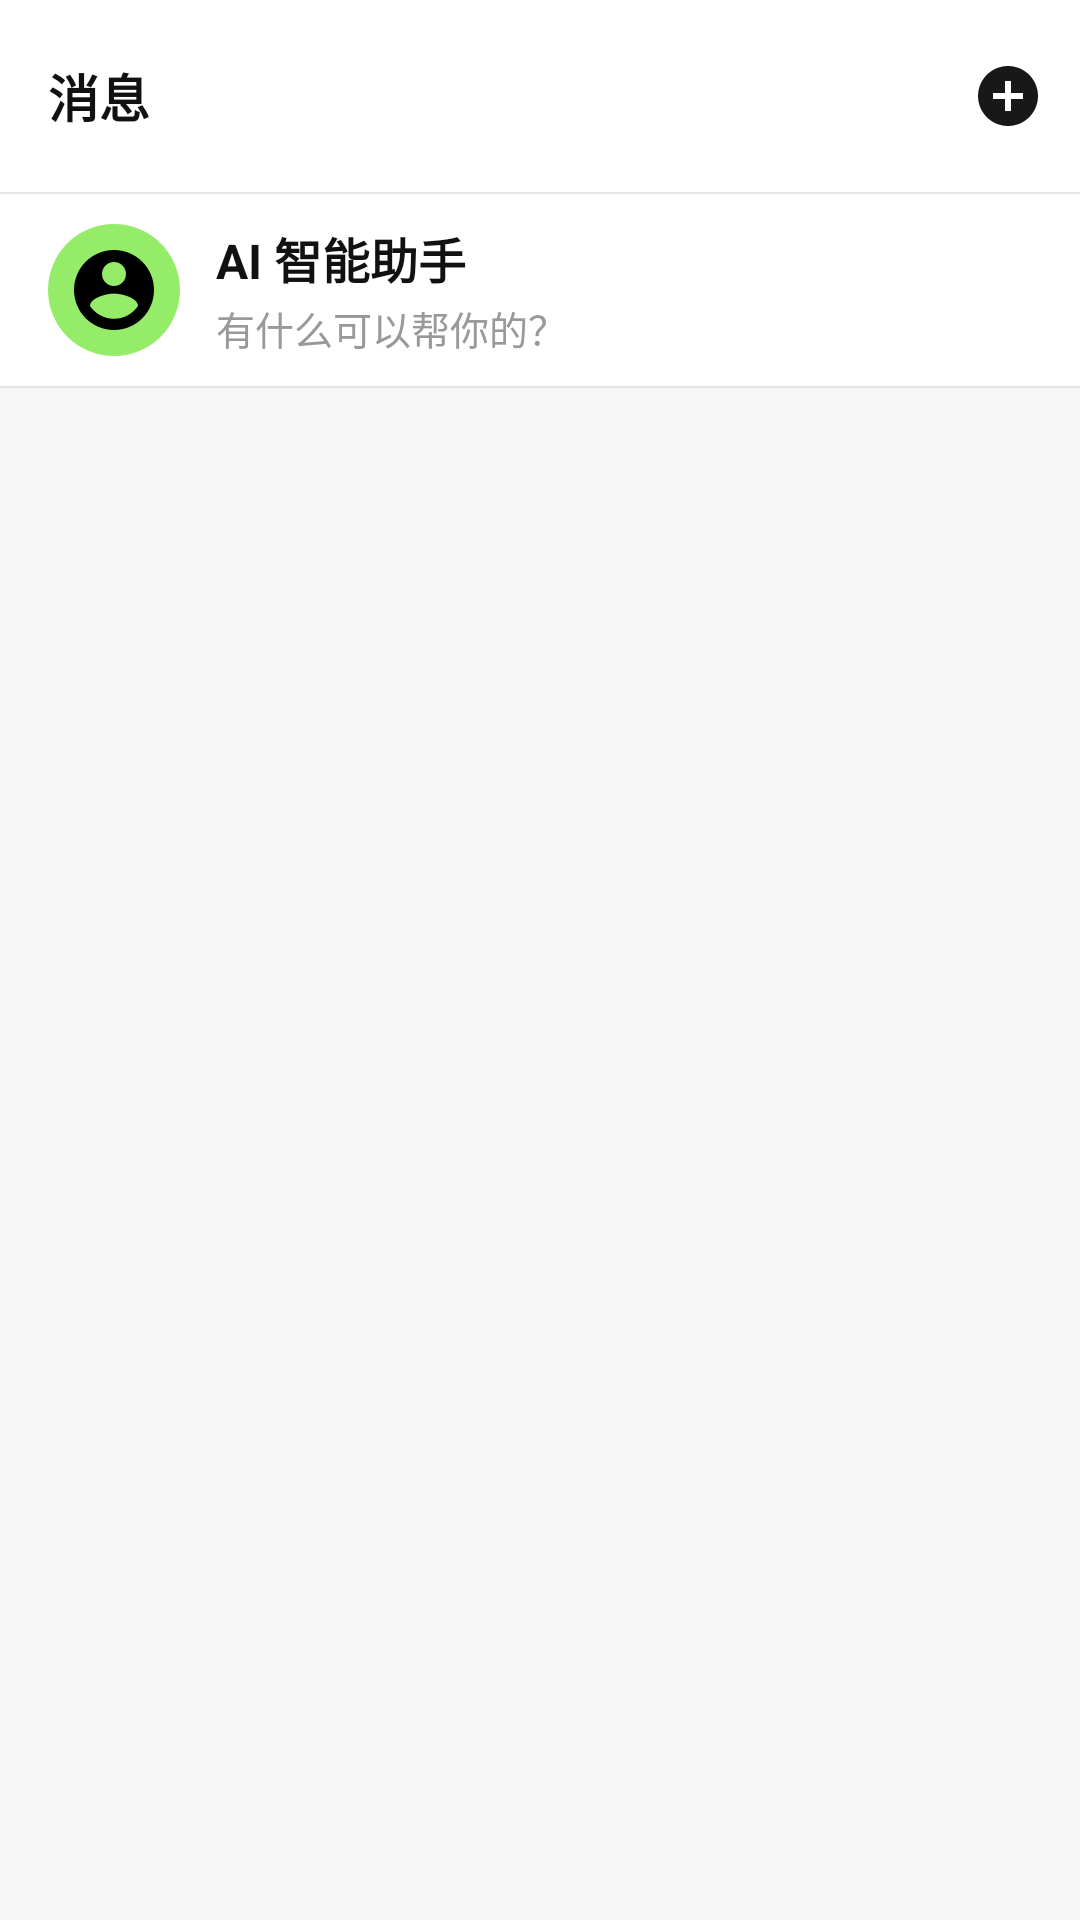

Where to tap for icons on this 1080 x 1920 app screen, as [x,y]:
添加: [1008,96]
